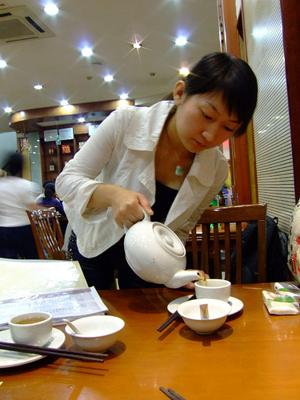person: (55, 51, 258, 290)
